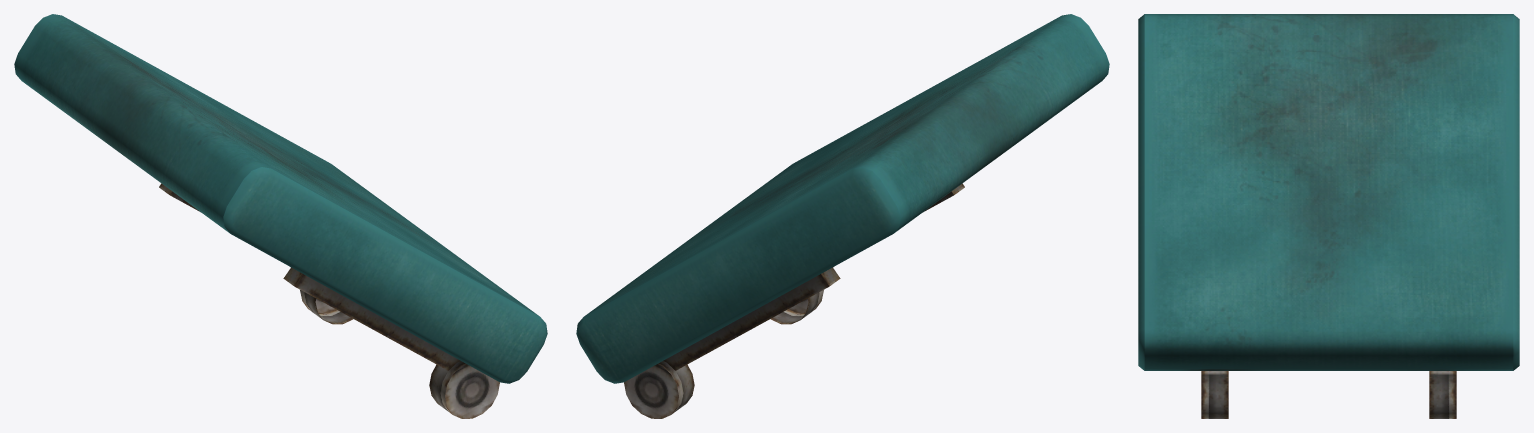
File: table_medical_theta_upper.dae
The picture shows the model from 3 angles, left to right: view 1: azimuth 30°, elevation 25°; view 2: azimuth 150°, elevation 25°; view 3: azimuth 270°, elevation 25°; orthographic projection. The views are drawn at different scales.
Visible parts, largest first — view 1: upper; view 2: upper; view 3: upper.
Part boxes in pixels (box(x1,y1,x2,y2)): upper: box(14, 14, 547, 418); upper: box(576, 14, 1109, 418); upper: box(1138, 14, 1519, 418).
Bounding box in the file's own units: 88.27 × 86.99 × 102.
